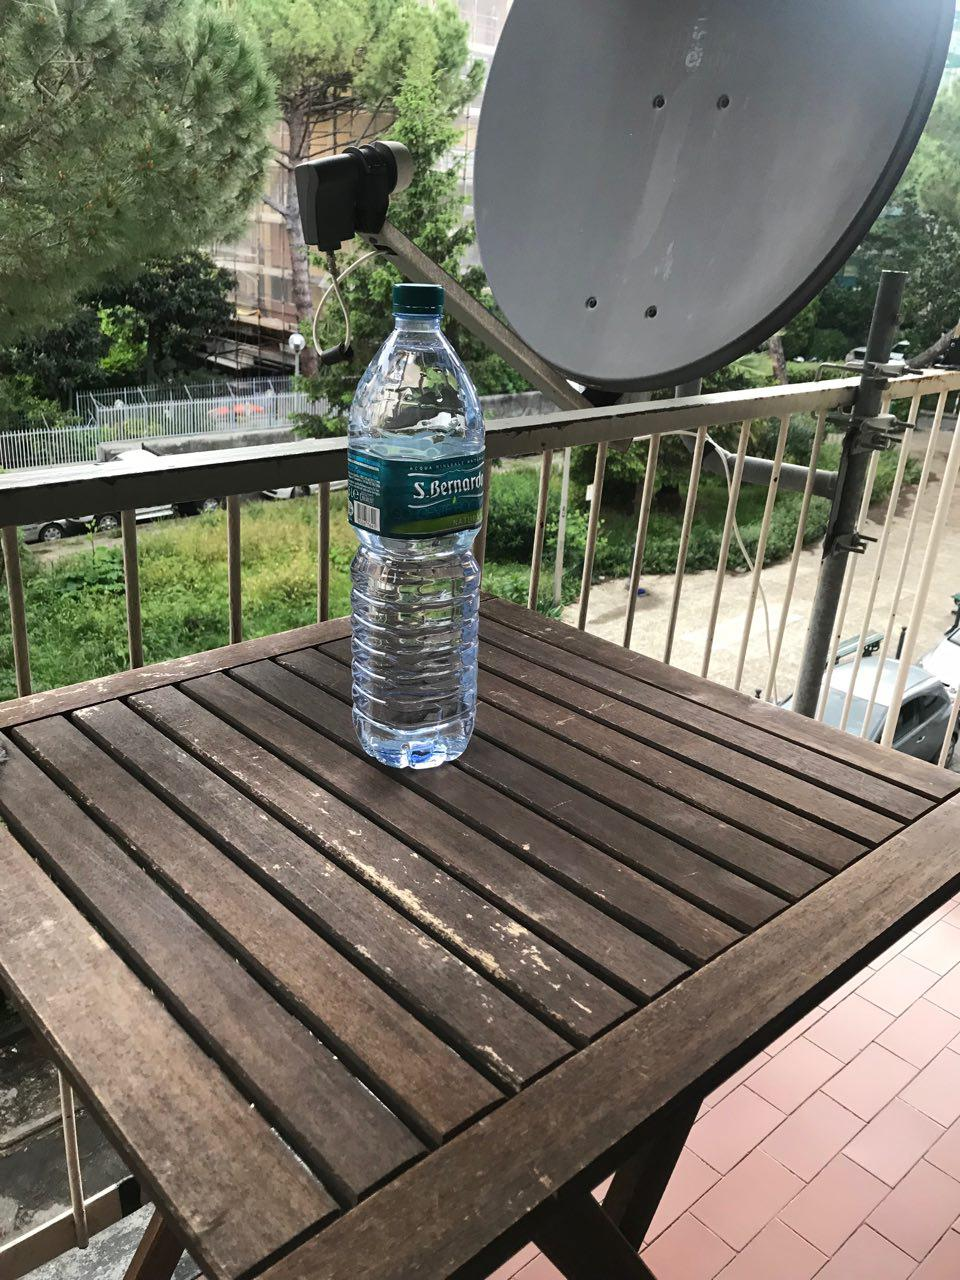san_bernardo: (346, 281, 487, 770)
